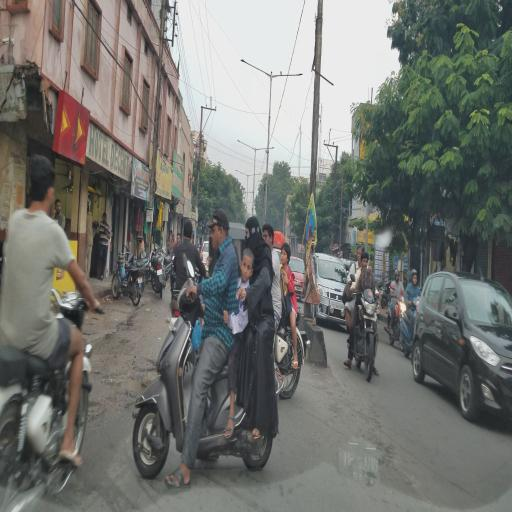street_light_0: (273, 64, 303, 86), (238, 56, 268, 78), (228, 160, 249, 184), (255, 143, 279, 161), (232, 136, 256, 154), (246, 164, 264, 180)
